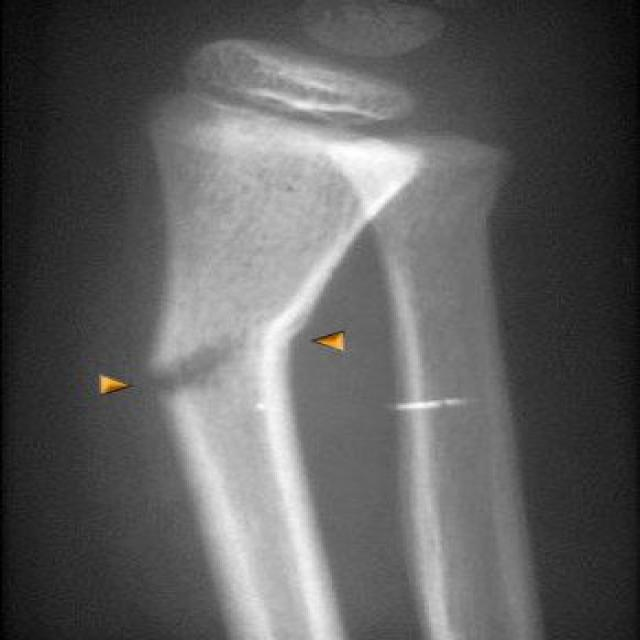fracture: (144, 303, 294, 455)
